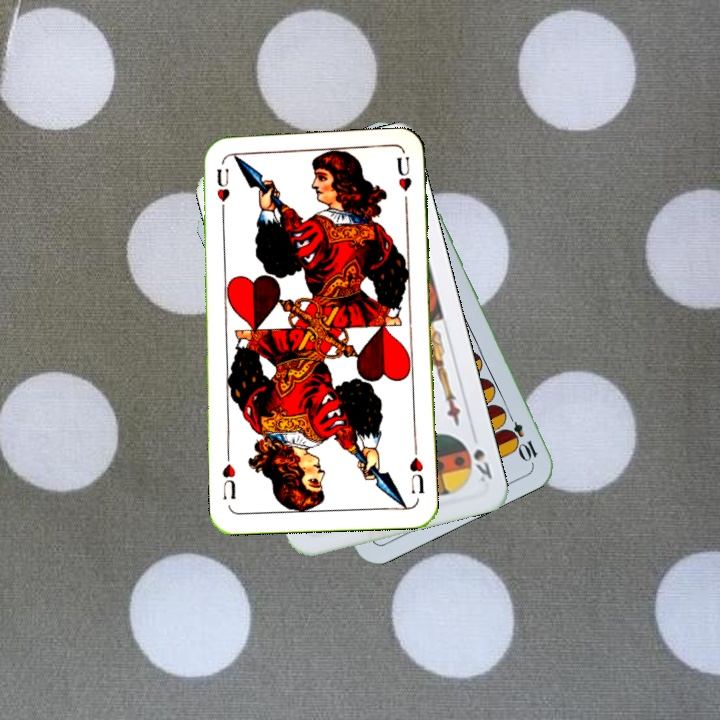E10: (501, 408, 540, 464)
HU: (405, 443, 427, 497), (212, 164, 233, 204)
SK: (469, 444, 495, 485)
